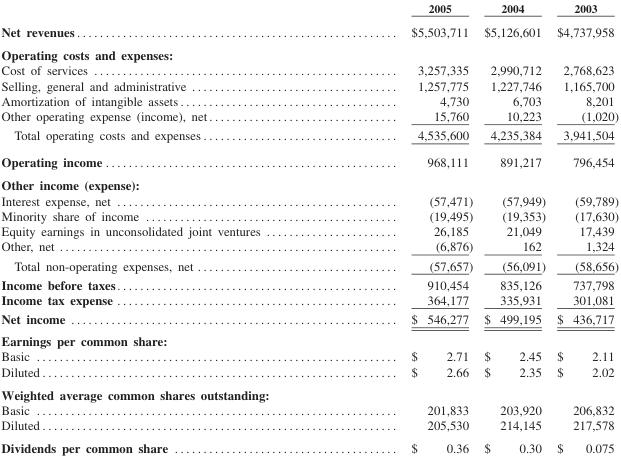table: (0, 0, 617, 455)
table column: (0, 0, 335, 455), (335, 0, 477, 455), (477, 0, 550, 455), (550, 0, 617, 455)
table column header: (0, 0, 617, 19)
table projected row header: (0, 42, 617, 62), (0, 173, 617, 192), (0, 329, 617, 348), (0, 382, 617, 401)
table row: (0, 148, 617, 173), (0, 19, 617, 42), (0, 125, 617, 148), (0, 42, 617, 62), (0, 309, 617, 329), (0, 0, 617, 19), (0, 173, 617, 192), (0, 255, 617, 274), (0, 329, 617, 348), (0, 363, 617, 382), (0, 382, 617, 401), (0, 417, 617, 436), (0, 436, 617, 455), (0, 291, 617, 309), (0, 108, 617, 125), (0, 238, 617, 255), (0, 274, 617, 291), (0, 92, 617, 108), (0, 207, 617, 223), (0, 401, 617, 417), (0, 62, 617, 77), (0, 77, 617, 92), (0, 192, 617, 207), (0, 223, 617, 238), (0, 348, 617, 363)
